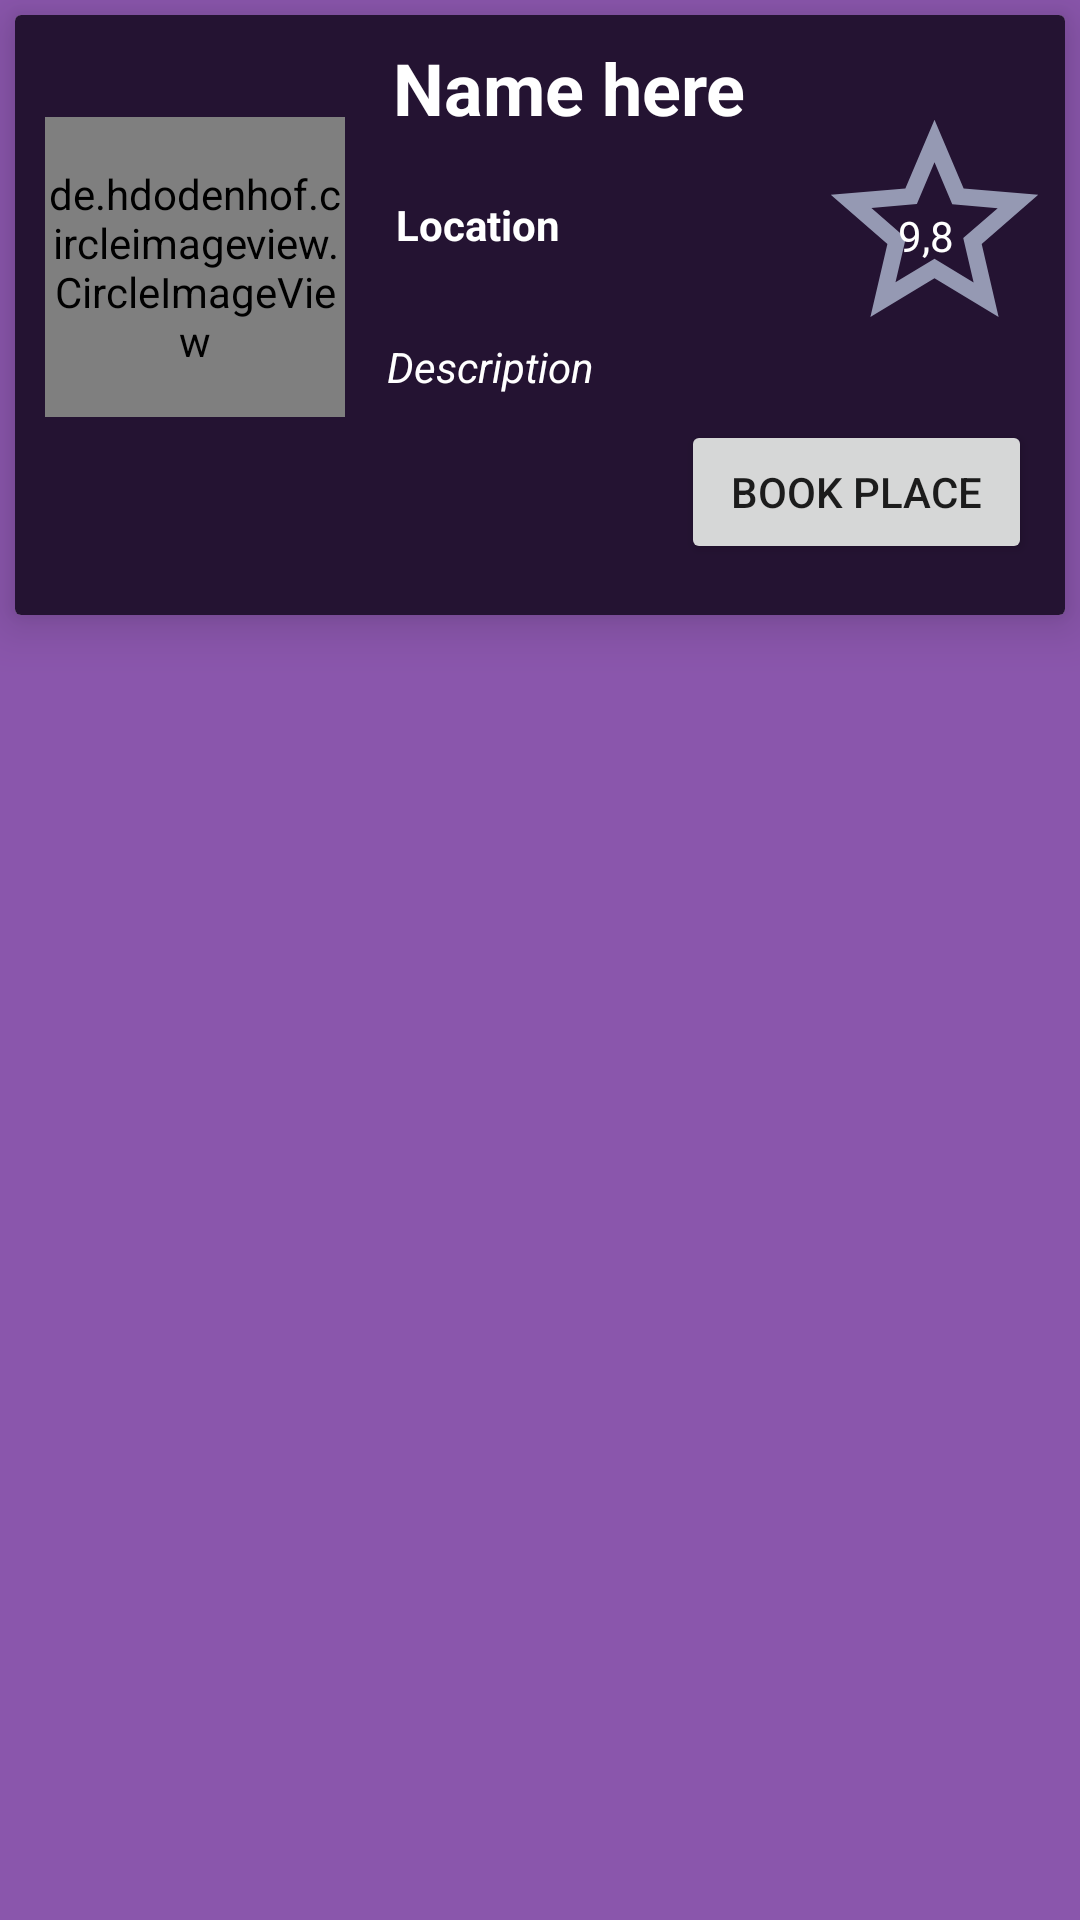

Locate icon controls on the screen. Image size 1080px x 1920px, boxes as (x1, y1, x2, y2).
star border: (831, 120, 1038, 317)
